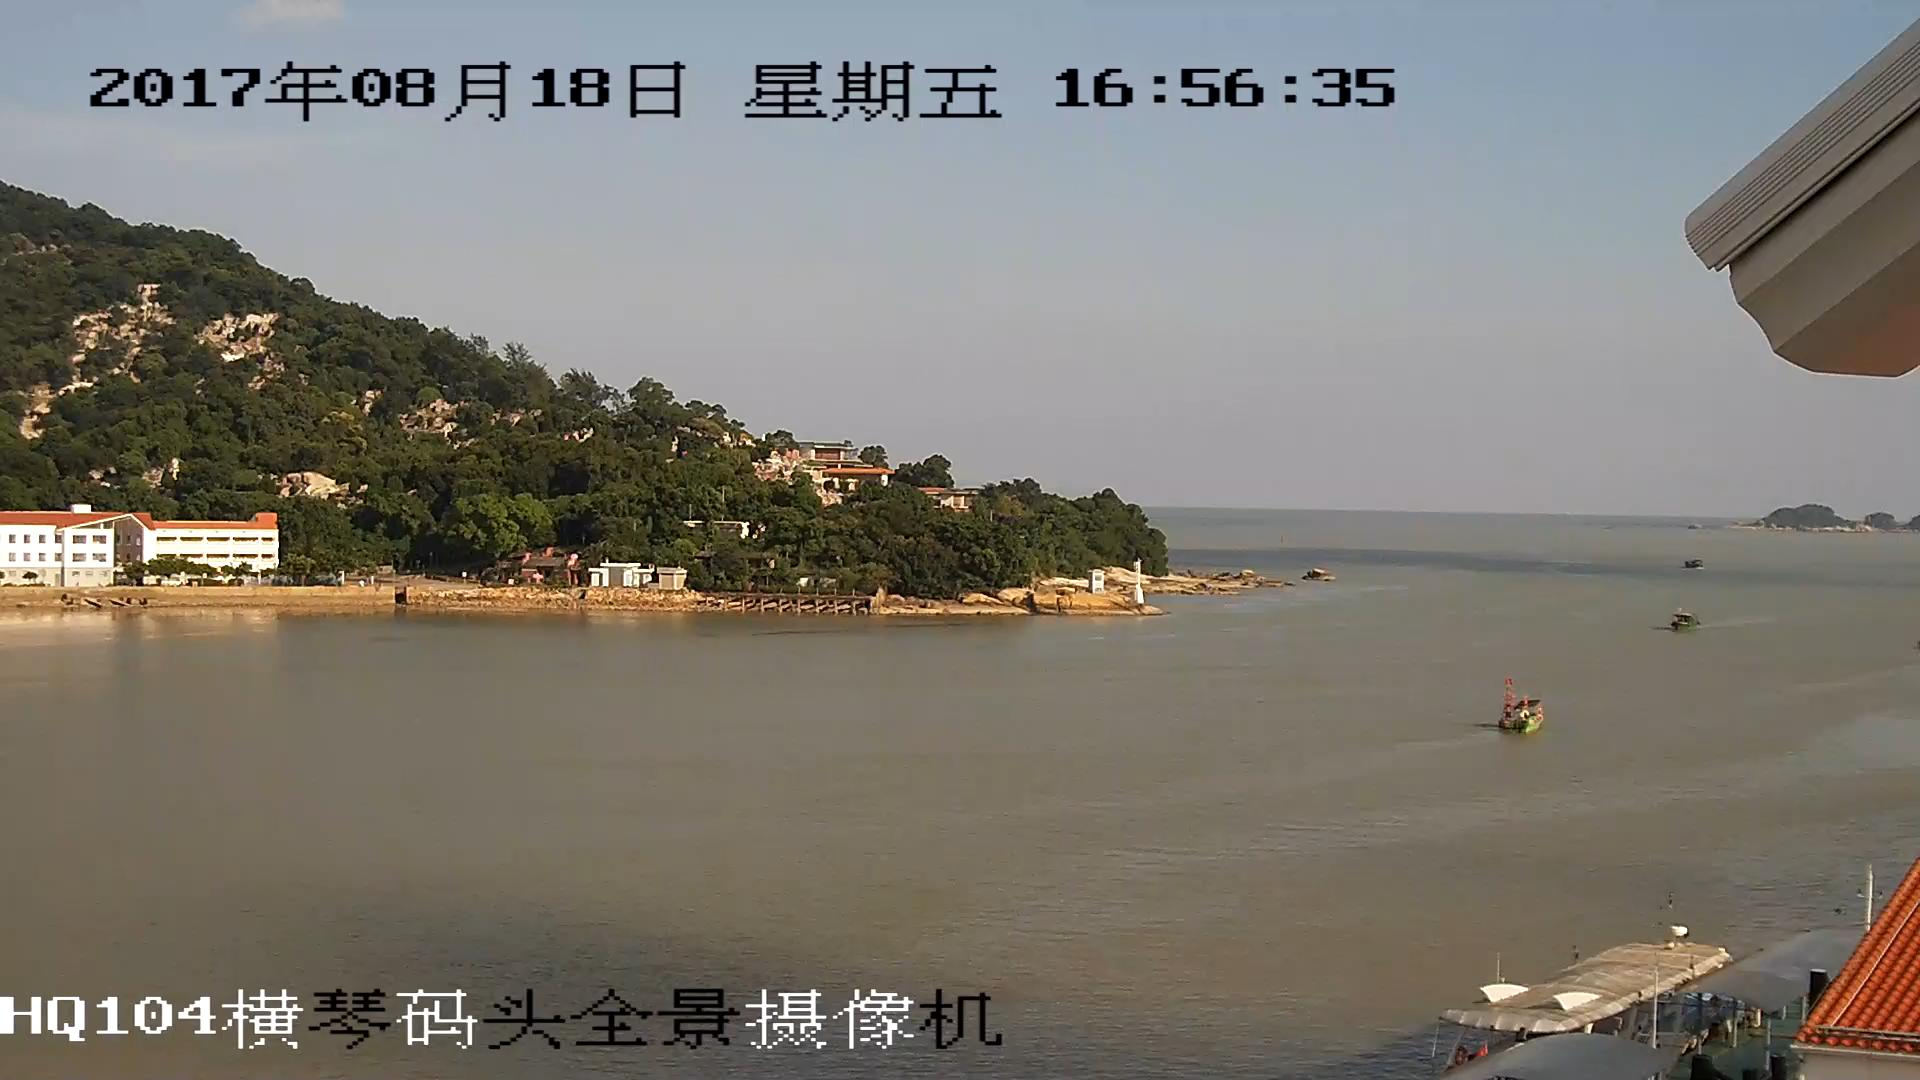fishing boat: (1497, 688, 1539, 731)
